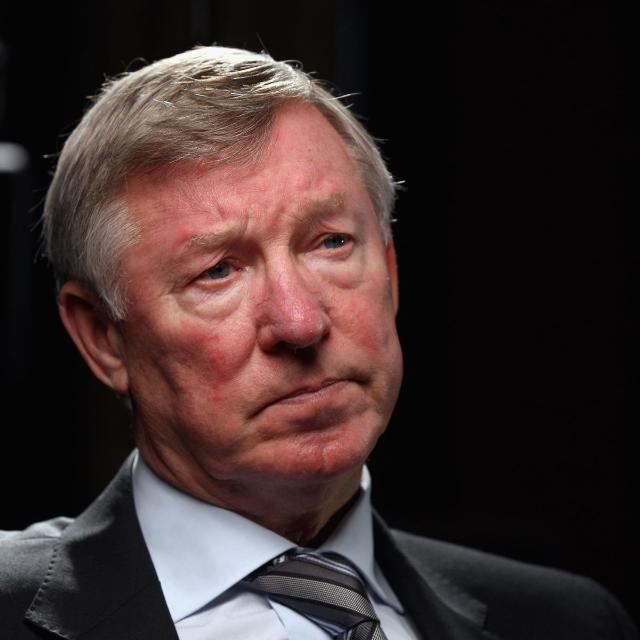crows_feet: (157, 271, 187, 301)
frown_line: (240, 204, 256, 240)
